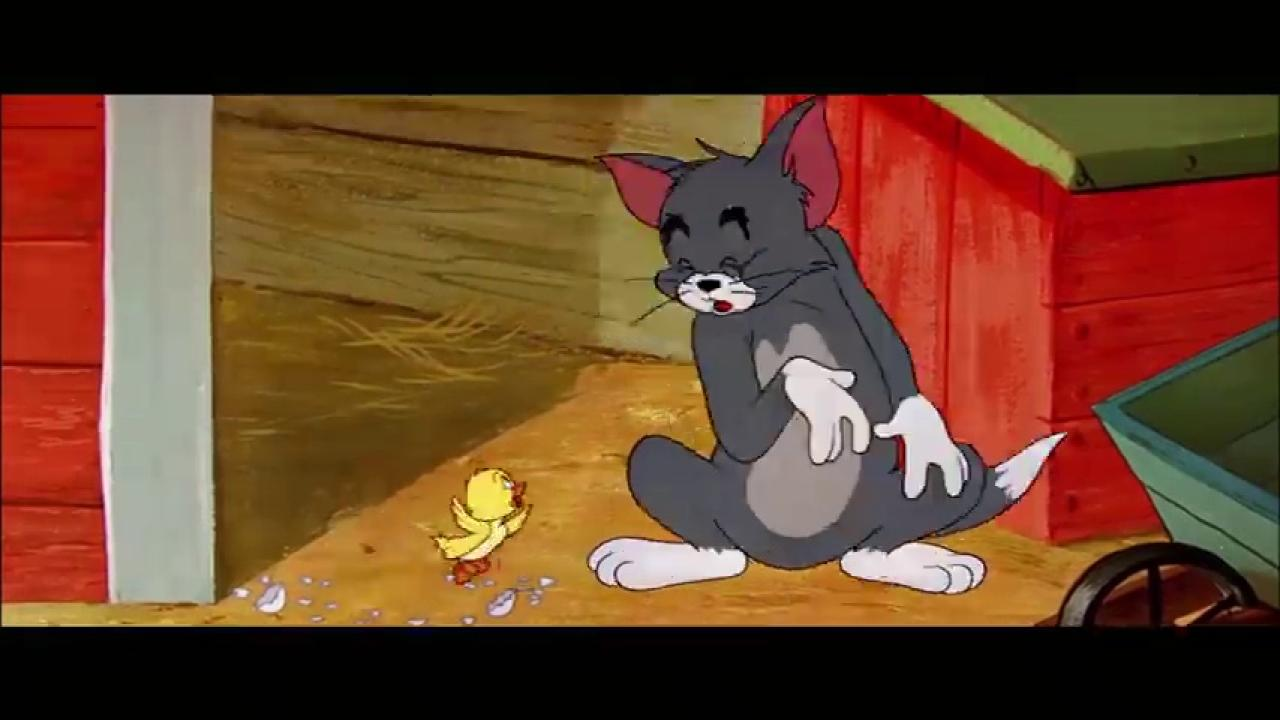Tom: (584, 94, 1071, 595)
